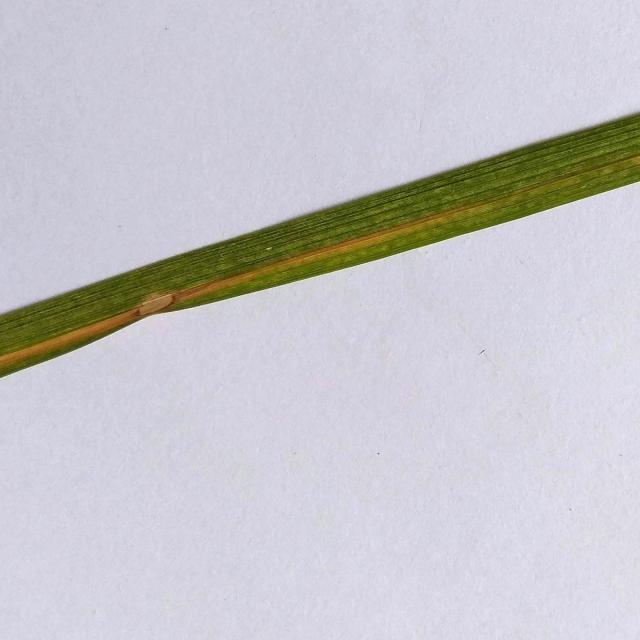Leaf blast: (0, 91, 640, 433)
